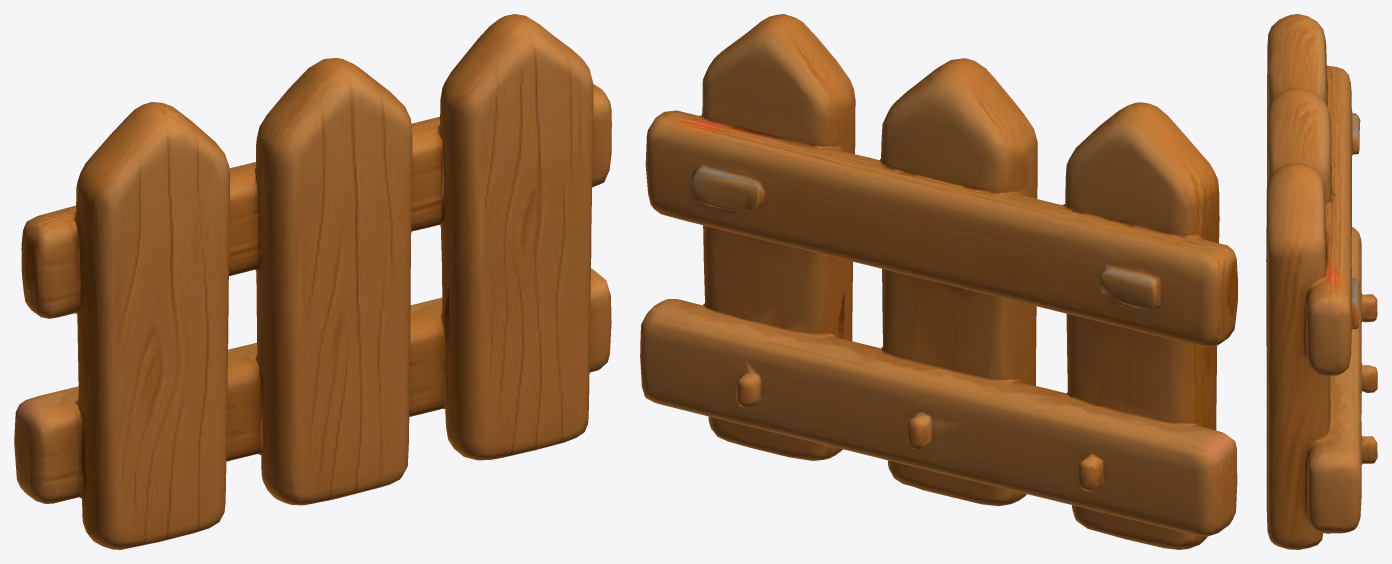
The model's file is fence_wood.glb.
The picture shows the model from 3 angles, left to right: view 1: azimuth 30°, elevation 25°; view 2: azimuth 150°, elevation 25°; view 3: azimuth 270°, elevation 25°; orthographic projection. The views are drawn at different scales.
Parts seen in each view (by area): view 1: textured_mesh.obj; view 2: textured_mesh.obj; view 3: textured_mesh.obj.
Part boxes in pixels (x1=…): textured_mesh.obj: x1=14, y1=14, x2=611, y2=549; textured_mesh.obj: x1=640, y1=14, x2=1237, y2=549; textured_mesh.obj: x1=1266, y1=14, x2=1377, y2=549.
Size of what is drawn, in the model's own units: 1.27 by 0.9 by 0.2497.
Materials: 1 (1 with a texture image).
